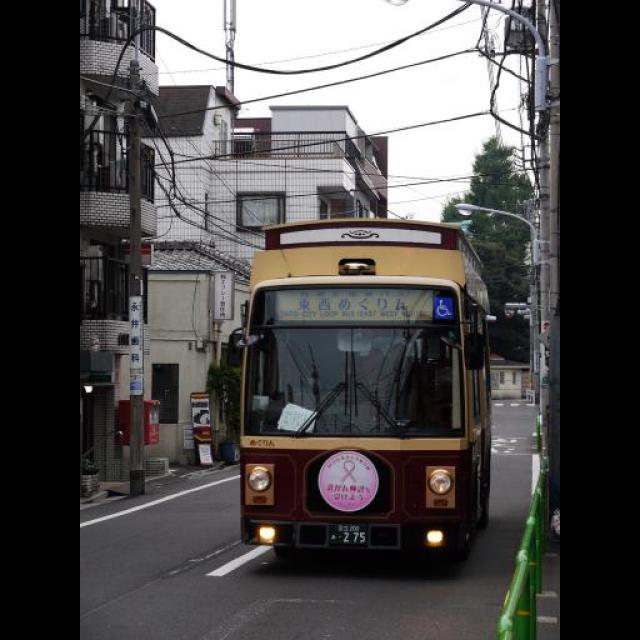Bus: (240, 218, 492, 557)
